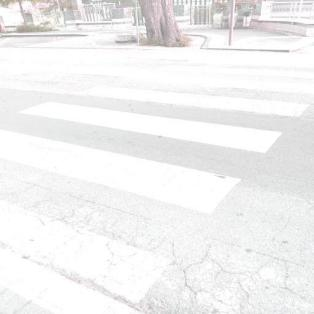Paso de Cebra: (14, 80, 312, 160)
